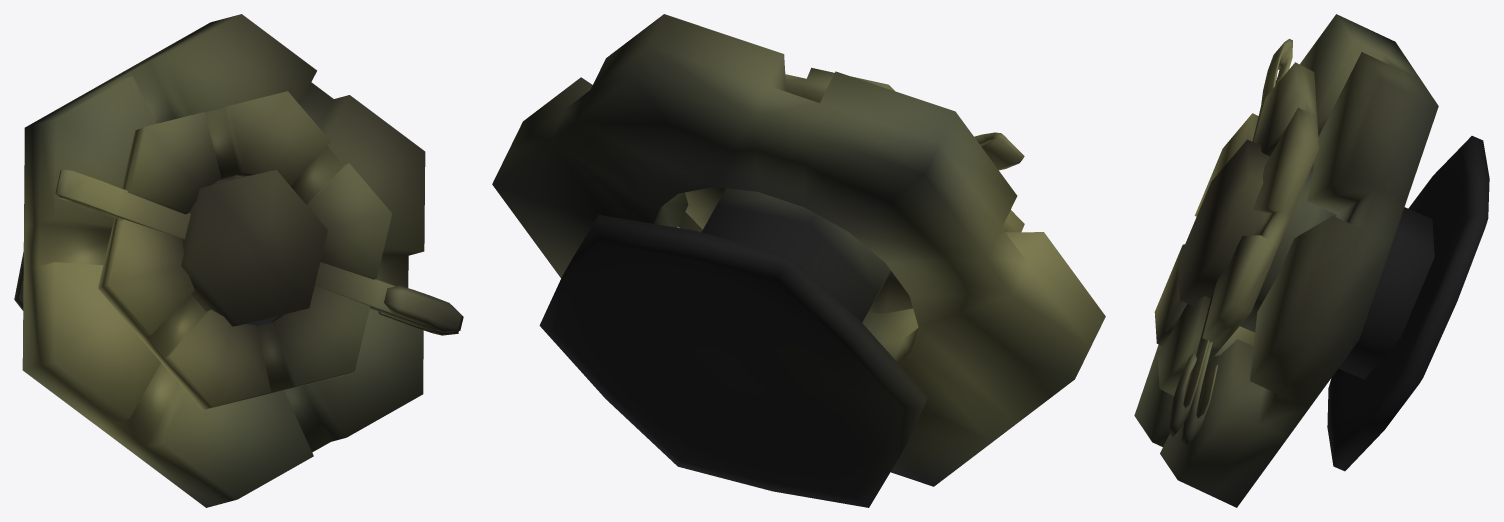
The model's file is Single Mine.FBX.
3 renders of one model, left to right at view 1: azimuth 30°, elevation 25°; view 2: azimuth 150°, elevation 25°; view 3: azimuth 270°, elevation 25°, orthographic. The views are drawn at different scales.
Parts seen in each view (by area): view 1: Group18951, Group19031; view 2: Group18951, Group19031; view 3: Group19031, Group18951.
Boxes of the visible parts, x1,y1,x2,y2 form: Group18951: (22, 14, 425, 507); Group19031: (14, 91, 463, 410); Group18951: (492, 14, 1105, 486); Group19031: (539, 67, 1024, 507); Group19031: (1154, 39, 1489, 471); Group18951: (1134, 14, 1438, 507).
Bounding box in the file's own units: 2.01 × 1.85 × 1.39.
